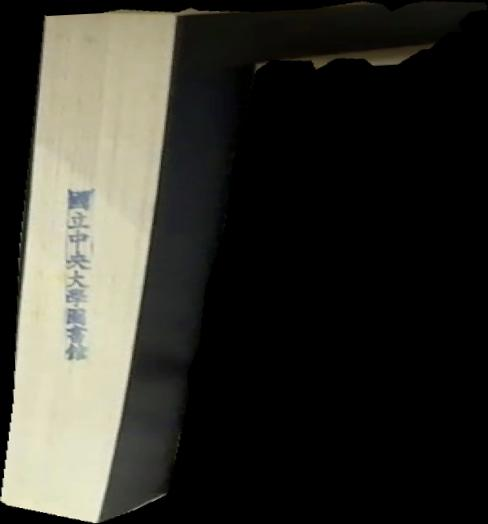backward: (1, 1, 488, 524)
